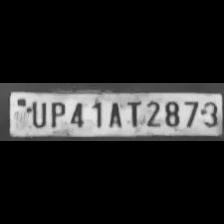1: (88, 98, 104, 128)
2: (142, 98, 160, 128)
3: (200, 100, 220, 128)
4: (66, 100, 86, 128)
7: (181, 100, 199, 128)
8: (160, 98, 180, 128)
A: (104, 98, 122, 128)
P: (46, 100, 66, 128)
T: (122, 98, 142, 128)
U: (26, 100, 46, 127)
